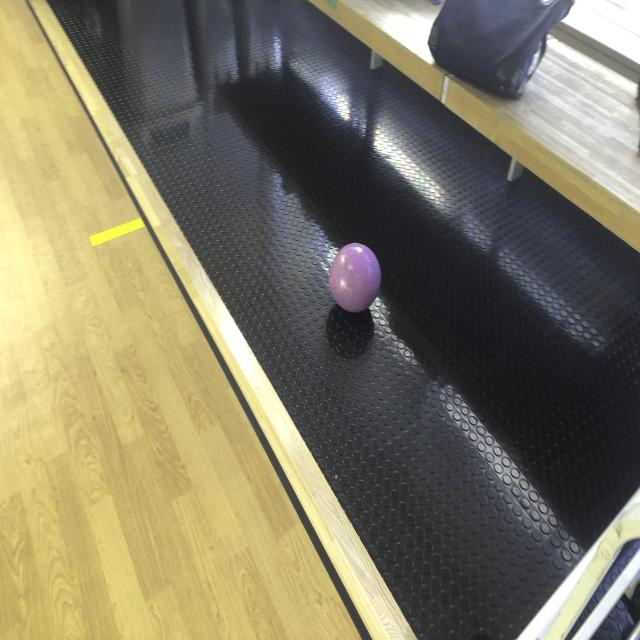purple_ball: (330, 242, 382, 312)
